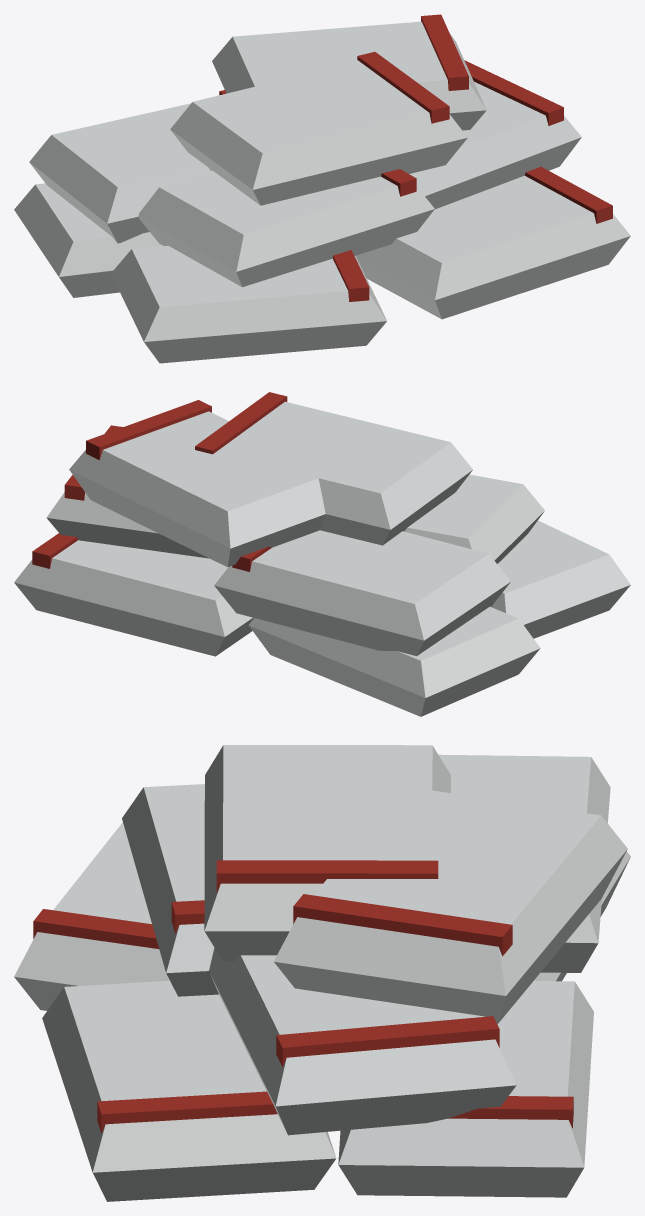
File: Coke_Bags_Stack.glb
3 renders of one model, top to bottom at view 1: azimuth 30°, elevation 25°; view 2: azimuth 150°, elevation 25°; view 3: azimuth 270°, elevation 25°, orthographic. The views are drawn at different scales.
Parts seen in each view (by area): view 1: Coke_Bags_Stack; view 2: Coke_Bags_Stack; view 3: Coke_Bags_Stack.
Boxes of the visible parts, <box> form: Coke_Bags_Stack: <box>14,14,630,363</box>; Coke_Bags_Stack: <box>14,392,630,716</box>; Coke_Bags_Stack: <box>14,745,630,1201</box>.
Bounding box in the file's own units: 0.2715 × 0.086 × 0.2005.
